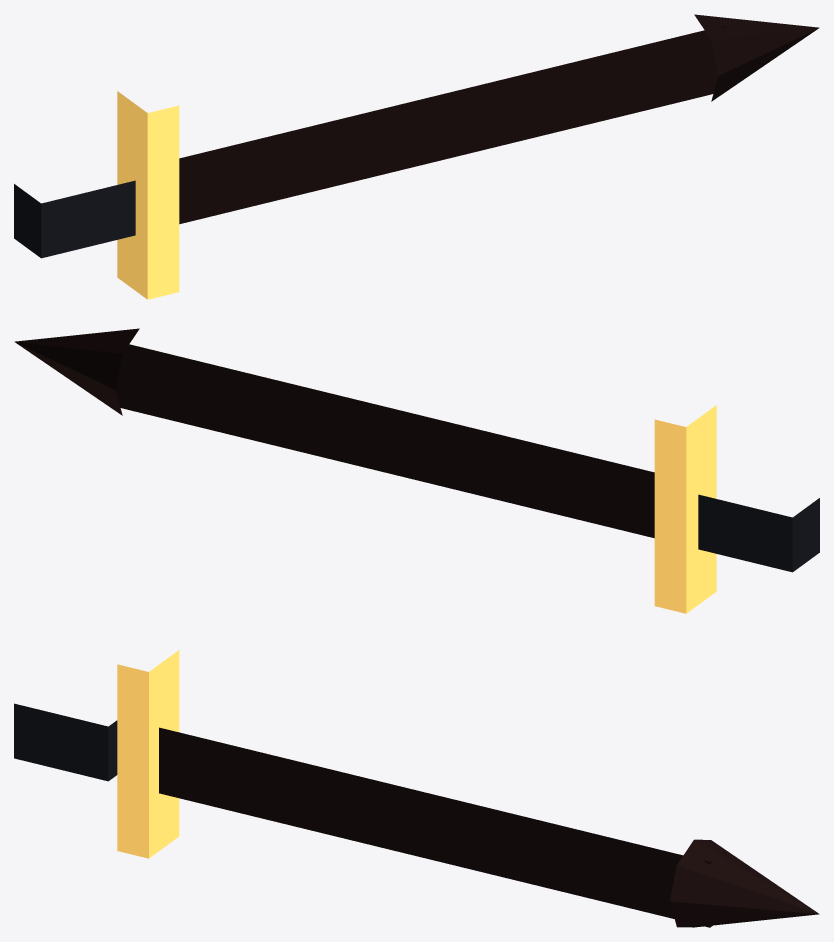
The model's file is chaos-knight.glb.
The picture shows the model from 3 angles, top to bottom: view 1: azimuth 30°, elevation 25°; view 2: azimuth 150°, elevation 25°; view 3: azimuth 330°, elevation 25°; orthographic projection.
Parts seen in each view (by area): view 1: chaos-knight-blade, chaos-knight-guard, chaos-knight-grip, chaos-knight-tip; view 2: chaos-knight-blade, chaos-knight-guard, chaos-knight-grip, chaos-knight-tip; view 3: chaos-knight-blade, chaos-knight-guard, chaos-knight-tip, chaos-knight-grip.
Boxes of the visible parts, box(x1,y1,x2,y2) form: chaos-knight-blade: box(179, 25, 725, 224); chaos-knight-guard: box(117, 91, 179, 299); chaos-knight-grip: box(14, 180, 135, 258); chaos-knight-tip: box(694, 14, 819, 101); chaos-knight-blade: box(108, 339, 654, 538); chaos-knight-guard: box(654, 405, 716, 613); chaos-knight-grip: box(698, 494, 819, 572); chaos-knight-tip: box(14, 328, 139, 415); chaos-knight-blade: box(159, 727, 725, 927); chaos-knight-guard: box(117, 650, 179, 858); chaos-knight-tip: box(670, 839, 819, 927); chaos-knight-grip: box(14, 703, 117, 781).
Size of the model in its own units: 1.51 by 0.34 by 0.16.
